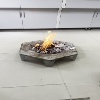fire: (35, 31, 59, 51)
